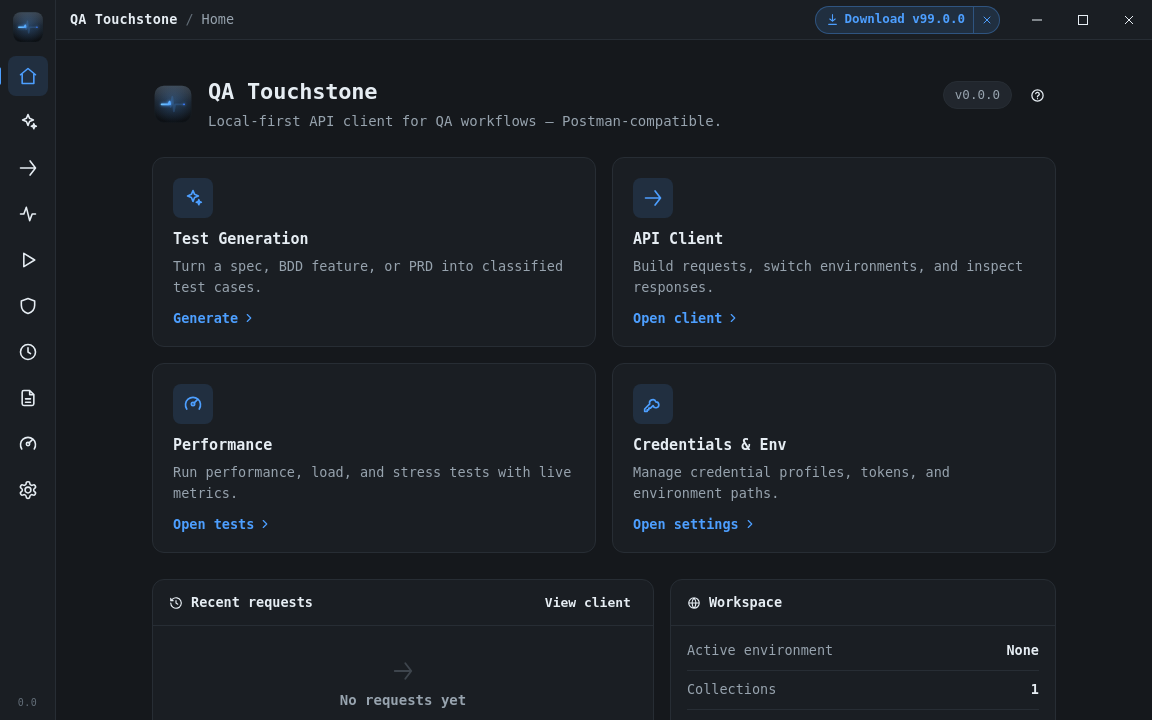
App (redesign shell) › shows and dismisses a GitHub update reminder when a newer version exists
Check: the link "Download v99.0.0" is shown, box left=826, top=11, right=965, bottom=26
Click the button named "Dismiss update reminder" at [986, 20], box left=973, top=6, right=999, bottom=32
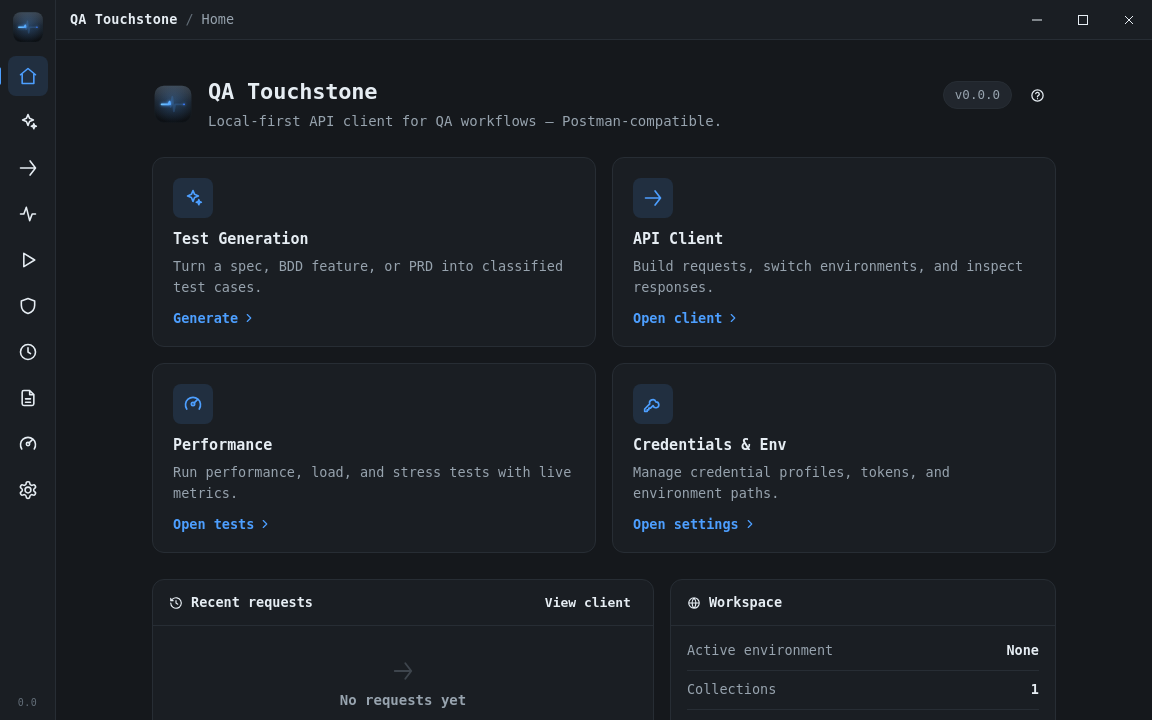
Check: the link "Download v99.0.0" is gone
